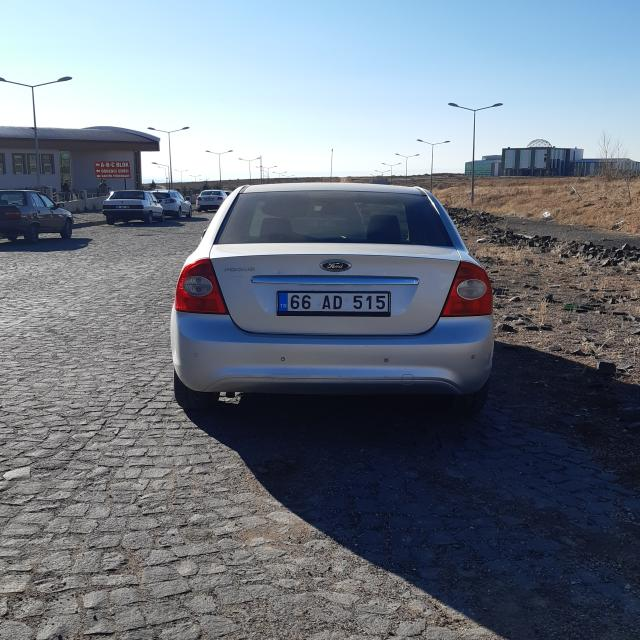license_plate: (277, 291, 389, 313)
